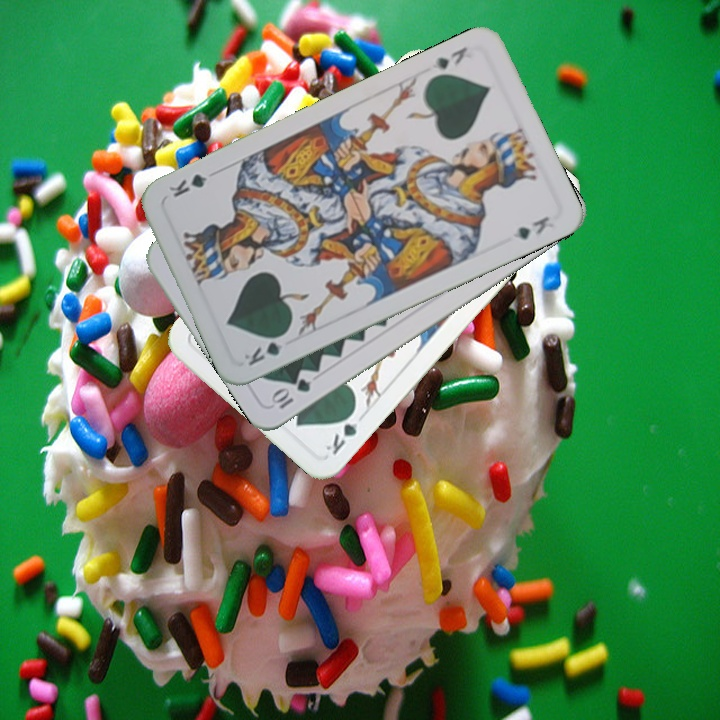G10: (267, 374, 314, 412)
GK: (240, 328, 291, 369), (321, 405, 361, 457), (428, 42, 470, 73)
